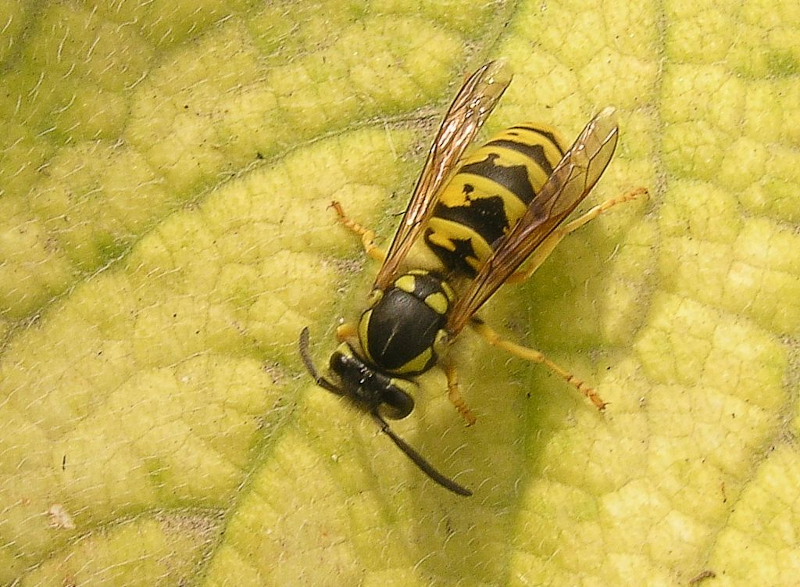chax: (301, 48, 641, 490)
